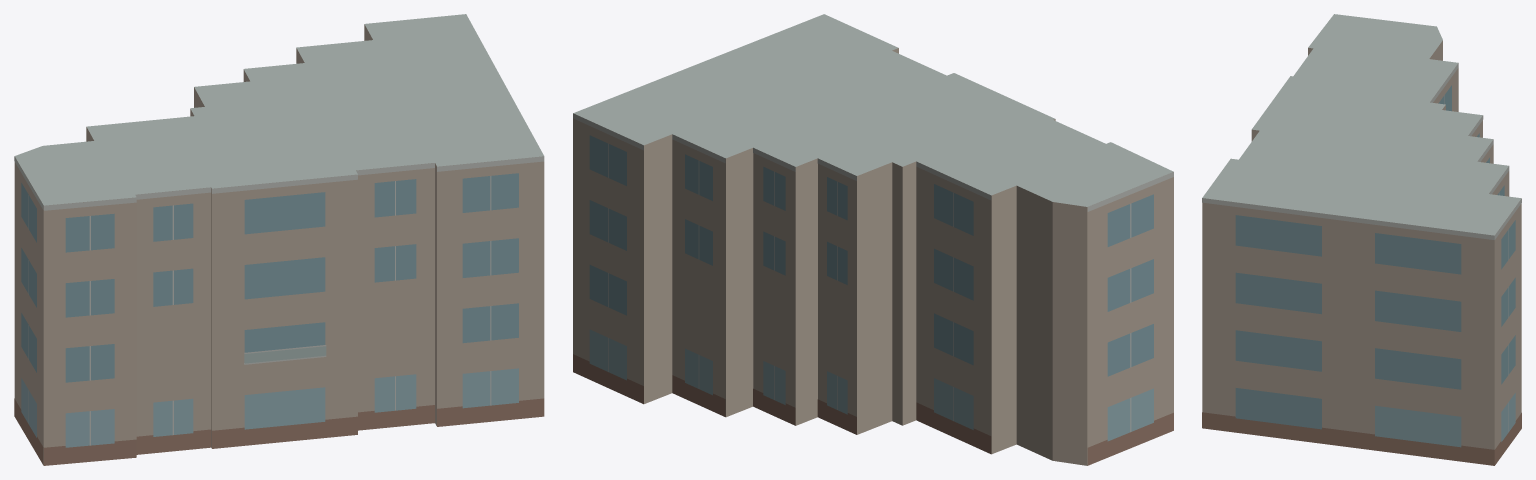
File: survey-upis-32873164.glb
3 views of the same model, side by side, from view 1: azimuth 30°, elevation 25°; view 2: azimuth 150°, elevation 25°; view 3: azimuth 270°, elevation 25° (orthographic). The views are drawn at different scales.
Visible parts, largest first — view 1: survey-upis-32873164.tmp; view 2: survey-upis-32873164.tmp; view 3: survey-upis-32873164.tmp.
Part boxes in pixels (bbox=[...]): survey-upis-32873164.tmp: bbox=[14, 14, 544, 465]; survey-upis-32873164.tmp: bbox=[573, 14, 1173, 465]; survey-upis-32873164.tmp: bbox=[1202, 14, 1521, 465].
Size of the model in its own units: 25.18 by 12.2 by 15.36.
